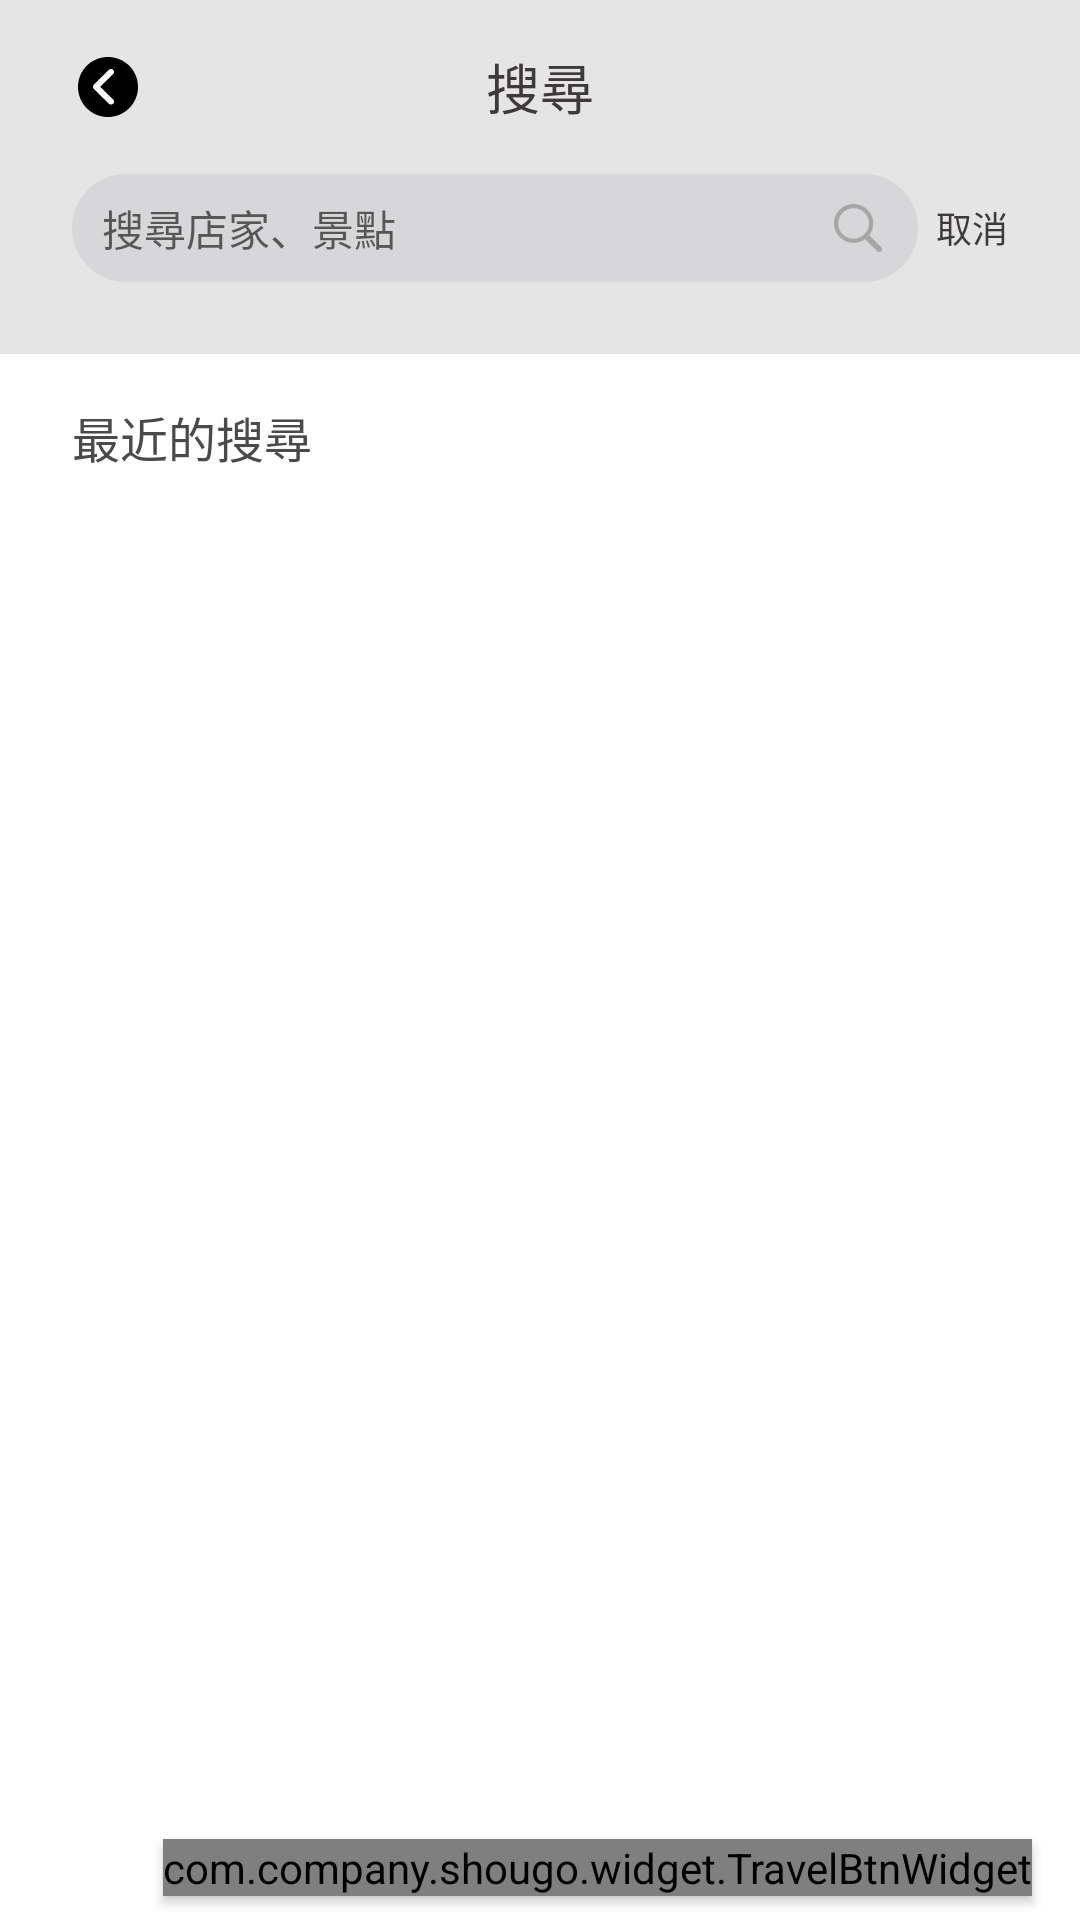

Icon bounding boxes for this 1080px x 1920px phone screenshot, format (x1,y1,x2,y2):
back: (78,57,138,117)
search: (834,204,882,252)
